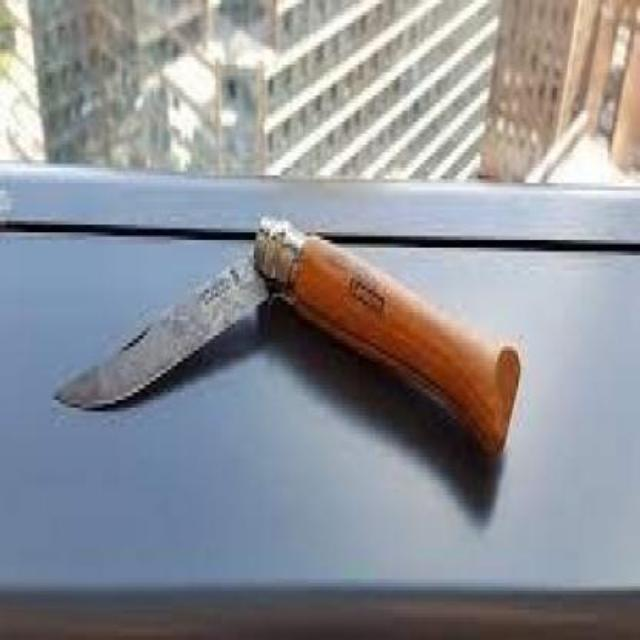Knife: (53, 219, 523, 457)
